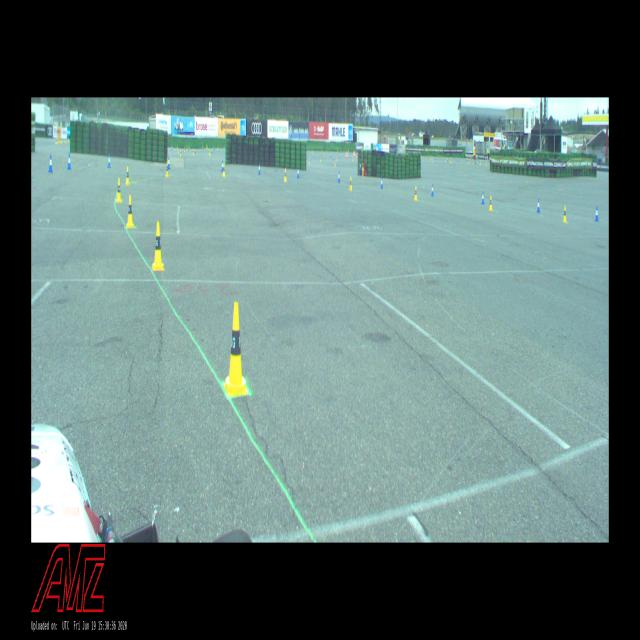blue_cone: (48, 154, 53, 172), (67, 153, 71, 169), (107, 154, 111, 168), (594, 207, 598, 220), (537, 199, 540, 212), (431, 183, 434, 196), (380, 176, 383, 188), (482, 191, 484, 204), (258, 162, 260, 175), (168, 157, 170, 169), (221, 160, 223, 172), (338, 171, 340, 182), (297, 167, 299, 177)
yellow_cone: (223, 302, 248, 395), (152, 222, 164, 271), (126, 195, 134, 227), (116, 178, 122, 203), (125, 167, 130, 185), (563, 205, 567, 222), (489, 195, 493, 211), (165, 162, 169, 177), (414, 187, 417, 200), (349, 177, 352, 190), (222, 163, 225, 176), (284, 168, 286, 182)
